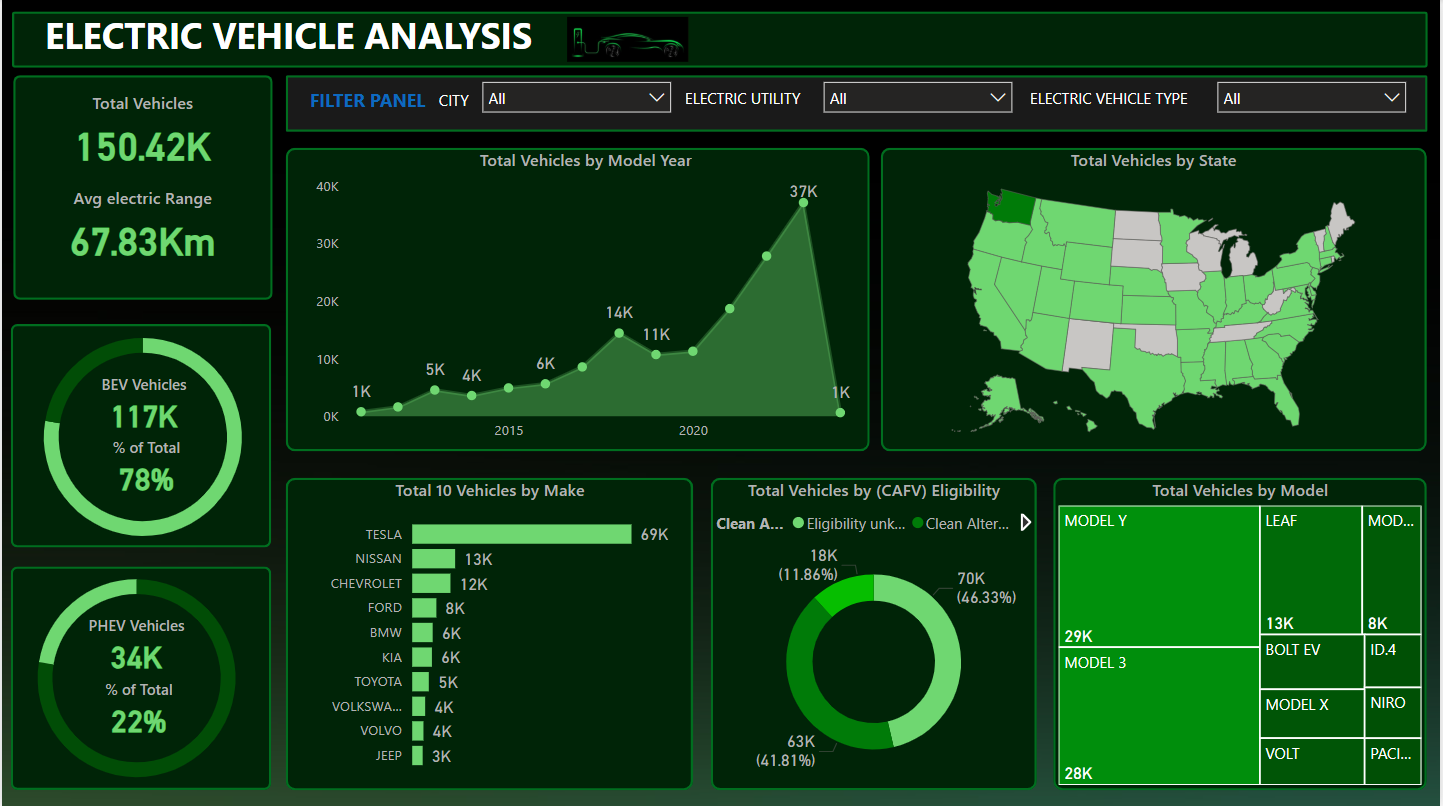

This screenshot's page, from the dashboard's own definition file:
{"tool":"powerbi","page":{"name":"Page 1","canvas":[1280,720],"ordinal":0},"visuals":[{"type":"shape","box":[8.4,10.9,1260.7,50],"z":0},{"type":"textbox","box":[33.8,6,458.4,61.5],"z":1000},{"type":"shape","box":[9.7,67.6,231,200],"z":2000},{"type":"card","title":"Total Vehicles","fields":{"Values":["Electric_Vehicle_Population_Data.Total Vehicles"]},"box":[15.1,82.3,219.6,72.7],"z":3000},{"type":"card","title":"Avg electric Range","fields":{"Values":["Electric_Vehicle_Population_Data.Avg Range"]},"box":[15.1,167.4,219.6,72.7],"z":4000},{"type":"shape","box":[8.2,289.5,231.9,199],"z":5000},{"type":"shape","box":[8.2,505,231.9,199],"z":6000},{"type":"donutChart","fields":{"Category":["Electric_Vehicle_Population_Data.Electric Vehicle Type"],"Y":["Electric_Vehicle_Population_Data.Total Vehicles"]},"box":[5.5,274.4,240.1,230.5],"z":7000},{"type":"card","title":"BEV Vehicles","fields":{"Values":["Electric_Vehicle_Population_Data.BEV Vehicles"]},"box":[43.9,333.4,166,56.3],"z":8000},{"type":"card","title":"% of Total","fields":{"Values":["Electric_Vehicle_Population_Data.% of BEV"]},"box":[45.3,389.7,166,56.3],"z":9000},{"type":"donutChart","fields":{"Category":["Electric_Vehicle_Population_Data.Electric Vehicle Type"],"Y":["Electric_Vehicle_Population_Data.Total Vehicles"]},"box":[0,489.8,240.1,230.4],"z":10000},{"type":"card","title":"PHEV Vehicles","fields":{"Values":["Electric_Vehicle_Population_Data.PHEV Vehicles"]},"box":[37,548.9,166,56.3],"z":11000},{"type":"card","title":"% of Total","fields":{"Values":["Electric_Vehicle_Population_Data.% of PHEV"]},"box":[38.4,605.1,166,56.3],"z":12000},{"type":"shape","box":[252.1,67.6,1017,50.7],"z":13000},{"type":"shape","box":[252.1,132.7,520,270.2],"z":14000},{"type":"areaChart","fields":{"Category":["Electric_Vehicle_Population_Data.Model Year"],"Y":["Electric_Vehicle_Population_Data.Total Vehicles"]},"box":[275.1,132.7,489.8,270.2],"z":15000},{"type":"shape","box":[783,132.7,486.2,270.2],"z":16000},{"type":"shapeMap","fields":{"Category":["Electric_Vehicle_Population_Data.State"],"Value":["Electric_Vehicle_Population_Data.Total Vehicles"]},"box":[783,132.7,486.2,270.2],"z":17000},{"type":"shape","box":[252.1,425.9,363.1,278.7],"z":18000},{"type":"barChart","title":"Total 10 Vehicles by Make","fields":{"Category":["Electric_Vehicle_Population_Data.Make"],"Y":["Electric_Vehicle_Population_Data.Total Vehicles"]},"box":[270.2,425.9,328.2,270.2],"z":19000},{"type":"shape","box":[631,425.9,290.8,278.7],"z":20000},{"type":"donutChart","title":"Total Vehicles by (CAFV) Eligibility","fields":{"Category":["Electric_Vehicle_Population_Data.Clean Alternative Fuel Vehicle (CAFV) Eligibility"],"Y":["Electric_Vehicle_Population_Data.Total Vehicles"]},"box":[631,425.9,290.8,278.7],"z":21000},{"type":"shape","box":[936.2,425.9,333,278.7],"z":22000},{"type":"treemap","fields":{"Group":["Electric_Vehicle_Population_Data.Model"],"Values":["Electric_Vehicle_Population_Data.Total Vehicles"]},"box":[936.2,425.9,333,278.7],"z":23000},{"type":"textbox","box":[252.1,73.6,146,38.6],"z":24000},{"type":"textbox","box":[383.6,76,53.1,35],"z":25000},{"type":"slicer","fields":{"Values":["Electric_Vehicle_Population_Data.Electric Utility"]},"box":[721.5,63.9,188.2,45.8],"z":26000},{"type":"textbox","box":[603.2,74.8,120.6,35],"z":27000},{"type":"slicer","fields":{"Values":["Electric_Vehicle_Population_Data.Electric Vehicle Type"]},"box":[1072.1,64,188.4,45.3],"z":28000},{"type":"textbox","box":[910.5,74.4,161.6,34.9],"z":29000},{"type":"slicer","fields":{"Values":["Electric_Vehicle_Population_Data.City"]},"box":[417.4,63.9,188.2,45.8],"z":30000},{"type":"image","box":[410.2,10.9,295.6,49.5],"z":31000}]}

Visuals, with their boxes in screenshot pixels (x1, y1, x2, y2), scaled from the page's 1280x720 canvas onto the 1443x806 screenshot:
shape: [left=9, top=12, right=1431, bottom=68]
textbox: [left=38, top=7, right=555, bottom=76]
shape: [left=11, top=76, right=271, bottom=300]
"Total Vehicles" card: [left=17, top=92, right=265, bottom=174]
"Avg electric Range" card: [left=17, top=187, right=265, bottom=269]
shape: [left=9, top=324, right=271, bottom=547]
shape: [left=9, top=565, right=271, bottom=788]
donutChart - Electric_Vehicle_Population_Data.Electric Vehicle Type x Electric_Vehicle_Population_Data.Total Vehicles: [left=6, top=307, right=277, bottom=565]
"BEV Vehicles" card: [left=49, top=373, right=237, bottom=436]
"% of Total" card: [left=51, top=436, right=238, bottom=499]
donutChart - Electric_Vehicle_Population_Data.Electric Vehicle Type x Electric_Vehicle_Population_Data.Total Vehicles: [left=0, top=548, right=271, bottom=805]
"PHEV Vehicles" card: [left=42, top=614, right=229, bottom=677]
"% of Total" card: [left=43, top=677, right=230, bottom=740]
shape: [left=284, top=76, right=1431, bottom=132]
shape: [left=284, top=149, right=870, bottom=451]
areaChart - Electric_Vehicle_Population_Data.Model Year x Electric_Vehicle_Population_Data.Total Vehicles: [left=310, top=149, right=862, bottom=451]
shape: [left=883, top=149, right=1431, bottom=451]
shapeMap - Electric_Vehicle_Population_Data.State x Electric_Vehicle_Population_Data.Total Vehicles: [left=883, top=149, right=1431, bottom=451]
shape: [left=284, top=477, right=694, bottom=789]
"Total 10 Vehicles by Make" barChart: [left=305, top=477, right=675, bottom=779]
shape: [left=711, top=477, right=1039, bottom=789]
"Total Vehicles by (CAFV) Eligibility" donutChart: [left=711, top=477, right=1039, bottom=789]
shape: [left=1055, top=477, right=1431, bottom=789]
treemap - Electric_Vehicle_Population_Data.Model x Electric_Vehicle_Population_Data.Total Vehicles: [left=1055, top=477, right=1431, bottom=789]
textbox: [left=284, top=82, right=449, bottom=126]
textbox: [left=432, top=85, right=492, bottom=124]
slicer - Electric_Vehicle_Population_Data.Electric Utility: [left=813, top=72, right=1026, bottom=123]
textbox: [left=680, top=84, right=816, bottom=123]
slicer - Electric_Vehicle_Population_Data.Electric Vehicle Type: [left=1209, top=72, right=1421, bottom=122]
textbox: [left=1026, top=83, right=1209, bottom=122]
slicer - Electric_Vehicle_Population_Data.City: [left=471, top=72, right=683, bottom=123]
image: [left=462, top=12, right=796, bottom=68]
